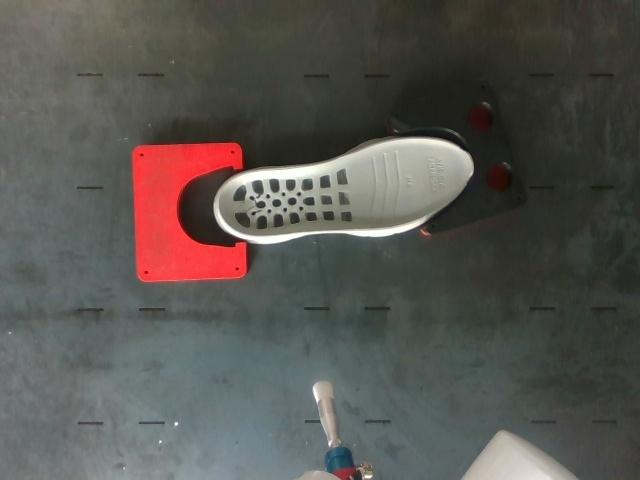shoes: (217, 138, 473, 237)
